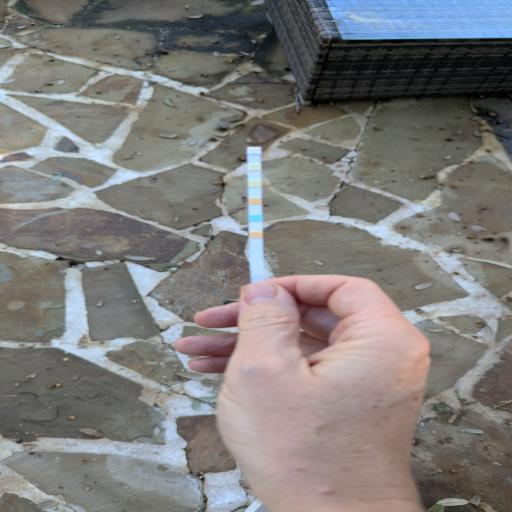strip: (247, 147, 265, 283)
